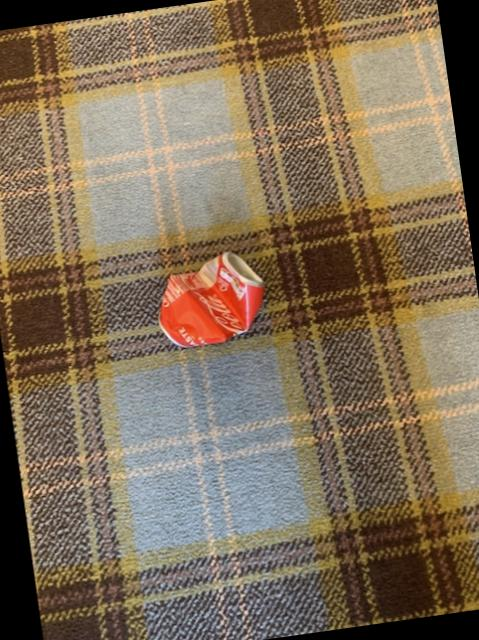metal: (160, 253, 265, 349)
